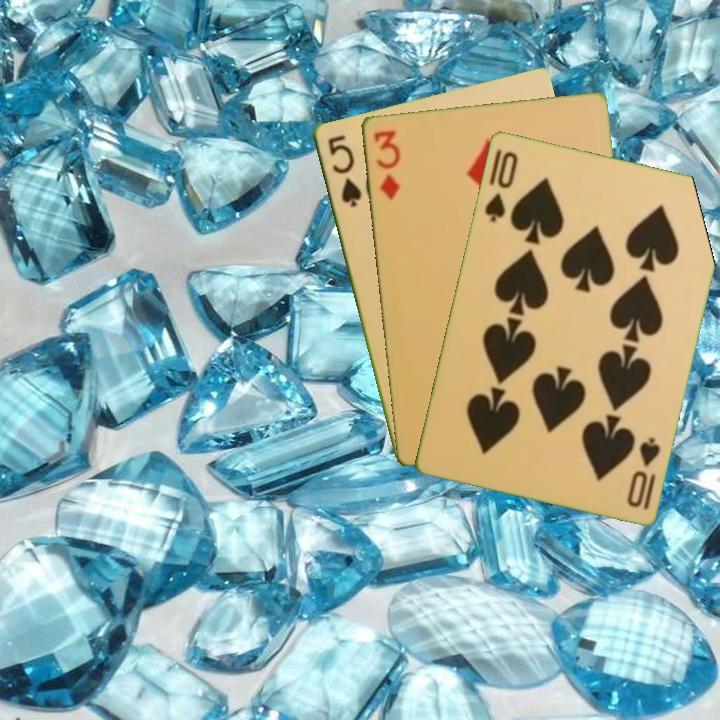10s: (480, 147, 521, 225), (623, 433, 663, 512)
3d: (369, 126, 403, 203)
5s: (323, 131, 364, 210)
